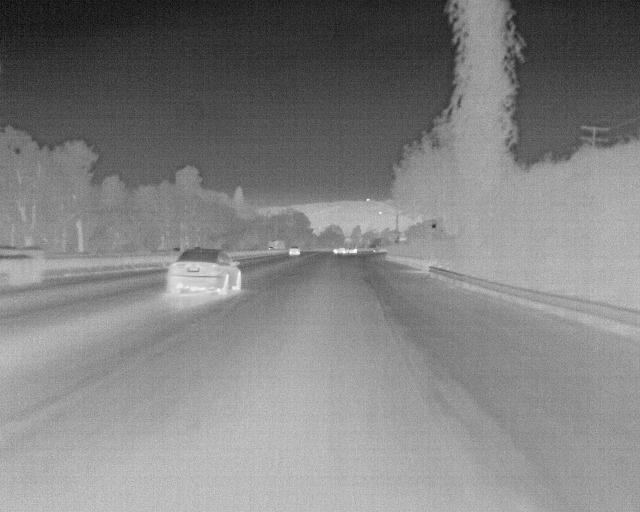car: (165, 244, 241, 295), (288, 243, 303, 257)
